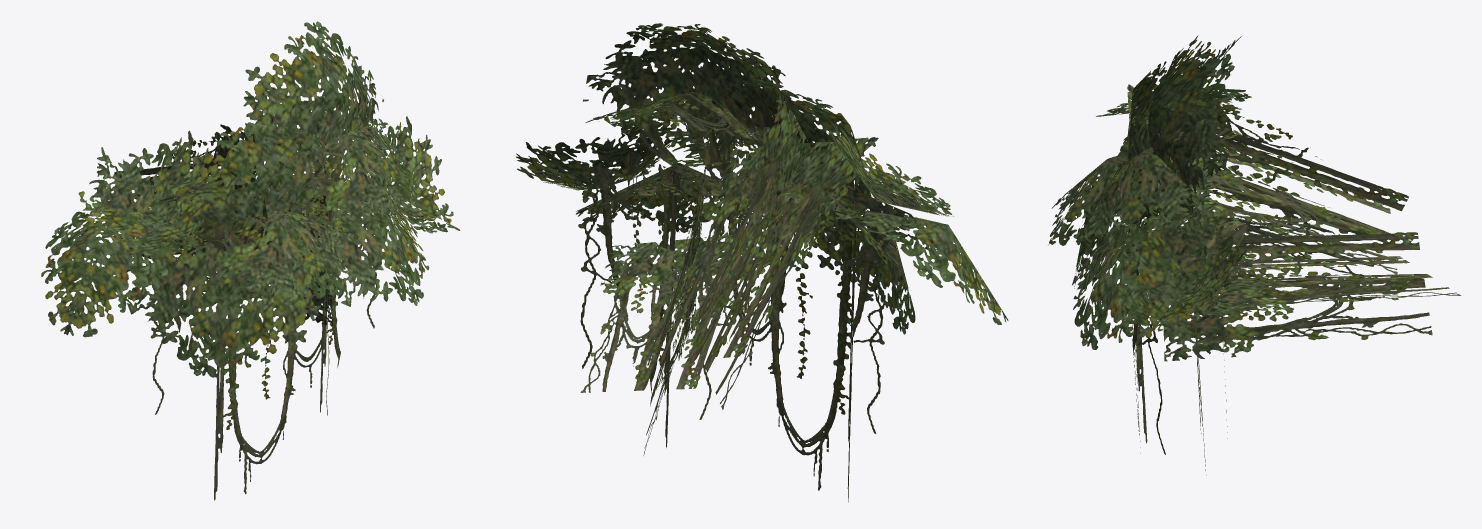
Rendered from wm_灌木藤蔓01.fbx.
3 renders of one model, left to right at view 1: azimuth 30°, elevation 25°; view 2: azimuth 150°, elevation 25°; view 3: azimuth 270°, elevation 25°, orthographic. The views are drawn at different scales.
Parts seen in each view (by area): view 1: wm_灌木藤蔓01; view 2: wm_灌木藤蔓01; view 3: wm_灌木藤蔓01.
Part boxes in pixels (box(x1,y1,x2,y2)): wm_灌木藤蔓01: box(41, 21, 460, 500); wm_灌木藤蔓01: box(516, 23, 1008, 502); wm_灌木藤蔓01: box(1048, 35, 1461, 475).
Size of the model in its own units: 509 by 512 by 403.
